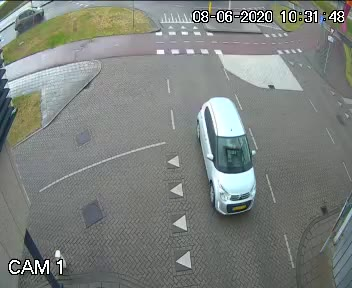car: (168, 92, 266, 238)
